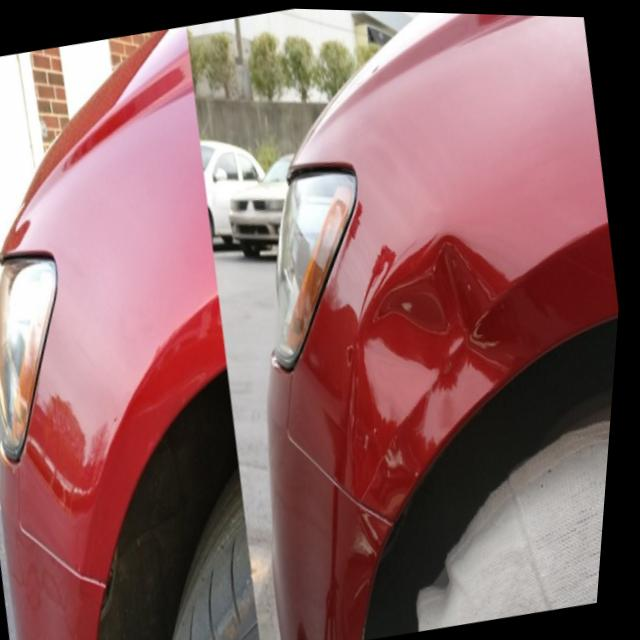Dent: (325, 196, 562, 457)
